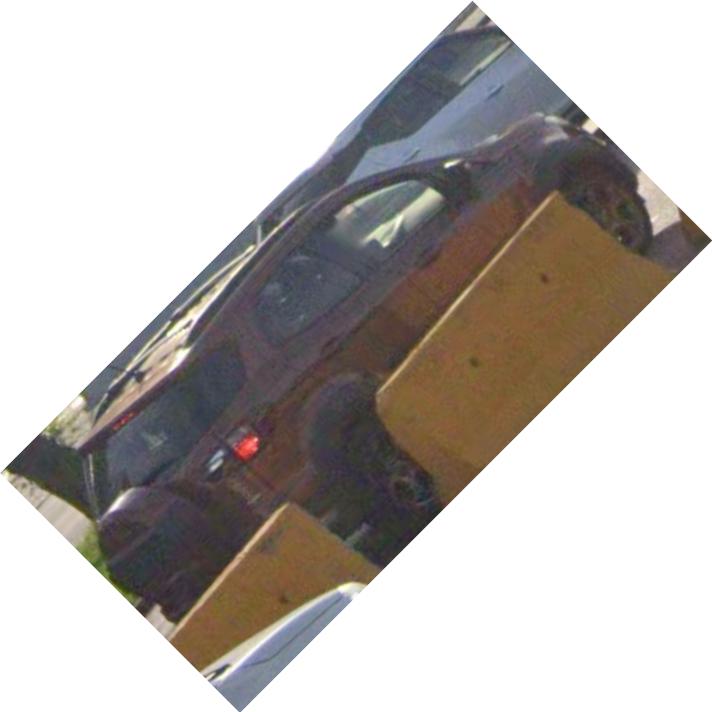car: (71, 113, 645, 615)
